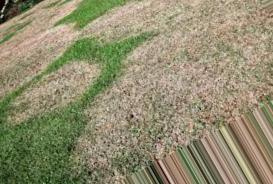patch: (139, 63, 241, 116), (138, 10, 257, 54), (102, 111, 155, 164), (17, 31, 62, 58), (95, 14, 139, 32), (37, 86, 81, 97), (68, 70, 93, 80)
